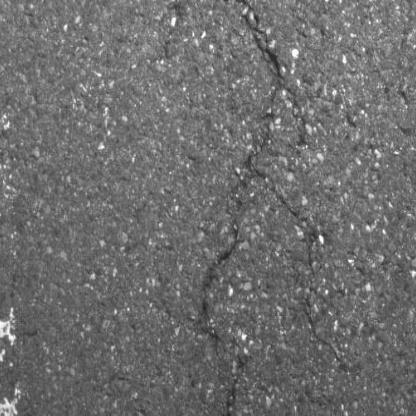Cracks: (248, 33, 317, 267), (203, 220, 239, 317), (237, 0, 268, 41), (201, 328, 221, 341), (237, 355, 245, 368)
